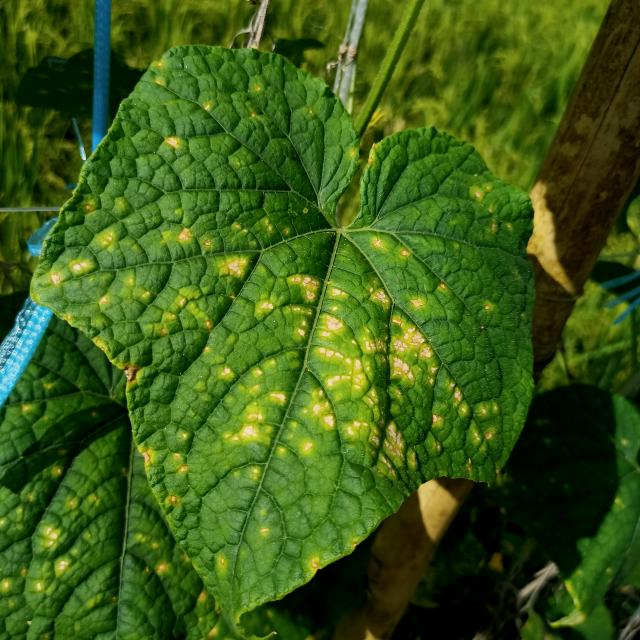disease_cucumber: (55, 87, 529, 552)
